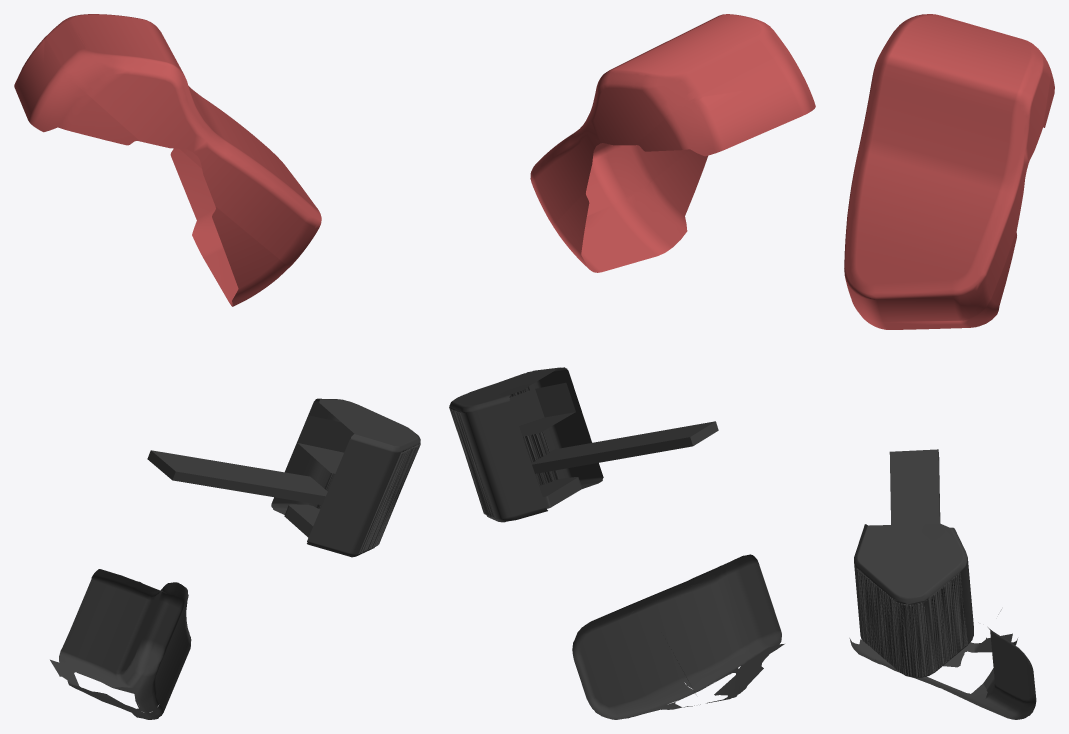
The model's file is RH_switch.glb.
3 renders of one model, left to right at view 1: azimuth 30°, elevation 25°; view 2: azimuth 150°, elevation 25°; view 3: azimuth 270°, elevation 25°, orthographic. The views are drawn at different scales.
Parts seen in each view (by area): view 1: RH_switch_enginestop_hot, RH_switch_hazard_hot, RH_switch_estart_hot; view 2: RH_switch_enginestop_hot, RH_switch_estart_hot, RH_switch_hazard_hot; view 3: RH_switch_enginestop_hot, RH_switch_hazard_hot, RH_switch_estart_hot.
Boxes of the visible parts, x1,y1,x2,y2 form: RH_switch_enginestop_hot: (14,14,321,306); RH_switch_hazard_hot: (147,398,420,557); RH_switch_estart_hot: (50,569,191,719); RH_switch_enginestop_hot: (530,14,815,272); RH_switch_estart_hot: (572,554,784,719); RH_switch_hazard_hot: (449,367,718,522); RH_switch_enginestop_hot: (844,14,1054,329); RH_switch_hazard_hot: (854,449,973,677); RH_switch_estart_hot: (849,609,1036,719).
Bounding box in the file's own units: 0.0417 × 0.0729 × 0.0213.
